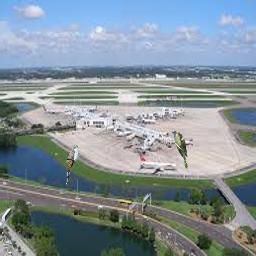Cuckoo: (170, 130, 188, 170), (66, 145, 78, 185)
